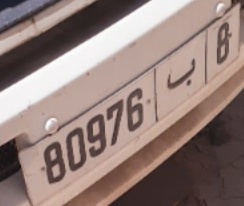0: (66, 128, 87, 172)
6: (123, 87, 144, 131)
7: (103, 98, 126, 147)
8: (40, 143, 68, 185), (213, 19, 231, 65)
9: (85, 112, 109, 158)
b: (164, 57, 196, 91)
